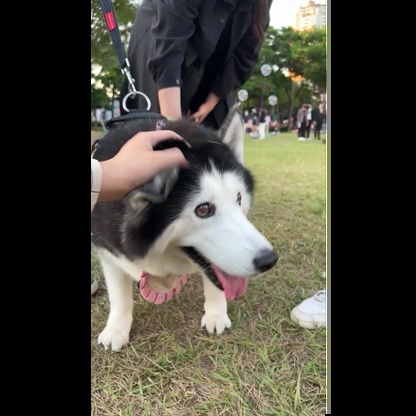husky: (91, 102, 281, 354)
